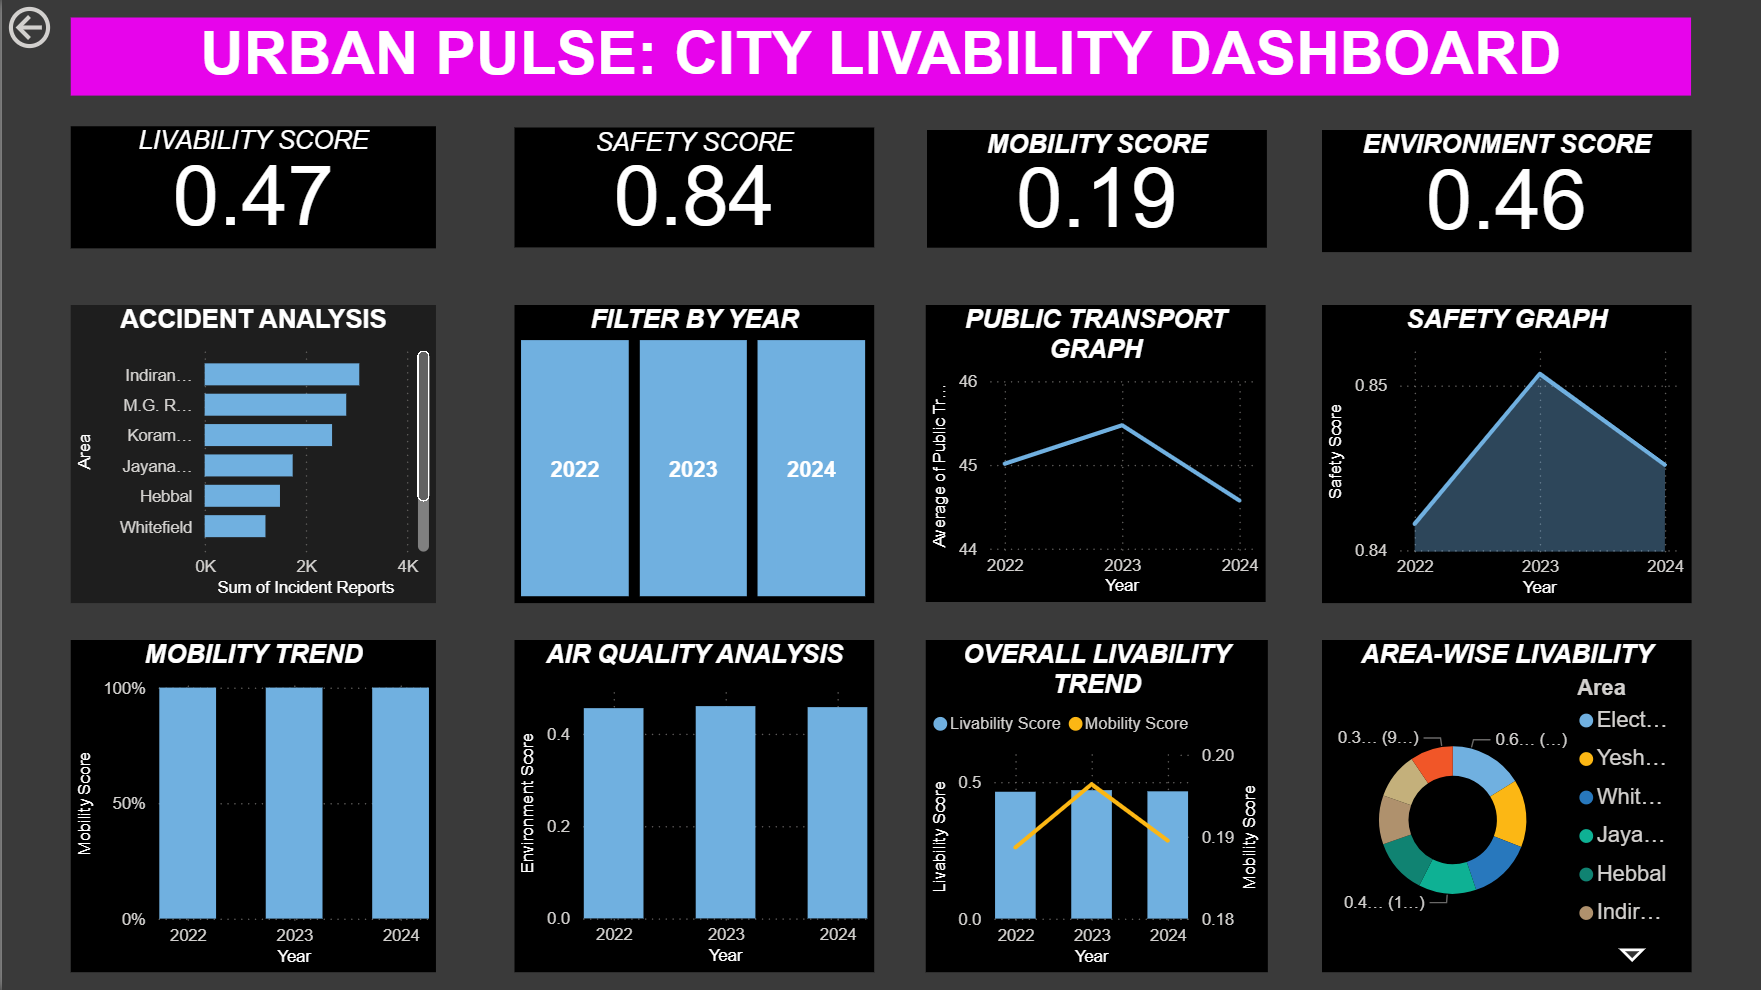

Layout of this report page (visuals, bound fields, positions):
{"tool":"powerbi","page":{"name":"Page 1","canvas":[1280,720],"ordinal":0},"visuals":[{"type":"hundredPercentStackedColumnChart","title":"MOBILITY TREND","fields":{"Category":["Banglore_traffic_Dataset.Date.Variation.Date Hierarchy.Year","Banglore_traffic_Dataset.Date.Variation.Date Hierarchy.Quarter","Banglore_traffic_Dataset.Date.Variation.Date Hierarchy.Month","Banglore_traffic_Dataset.Date.Variation.Date Hierarchy.Day"],"Y":["Banglore_traffic_Dataset.Mobility Score"]},"box":[50,465.7,265.7,241.4],"z":0},{"type":"clusteredColumnChart","title":"AIR QUALITY ANALYSIS","fields":{"Category":["Banglore_traffic_Dataset.Date.Variation.Date Hierarchy.Year","Banglore_traffic_Dataset.Date.Variation.Date Hierarchy.Quarter","Banglore_traffic_Dataset.Date.Variation.Date Hierarchy.Month","Banglore_traffic_Dataset.Date.Variation.Date Hierarchy.Day"],"Y":["Banglore_traffic_Dataset.Environment Score"]},"box":[372.8,465.7,261.8,241.3],"z":1000},{"type":"lineChart","title":"PUBLIC TRANSPORT GRAPH","fields":{"Y":["Avg(Banglore_traffic_Dataset.Public Transport Usage)"],"Category":["Banglore_traffic_Dataset.Date.Variation.Date Hierarchy.Year"]},"box":[672,222,247.3,216],"z":2000},{"type":"areaChart","title":"SAFETY GRAPH","fields":{"Y":["Banglore_traffic_Dataset.Safety Score"],"Category":["Banglore_traffic_Dataset.Date.Variation.Date Hierarchy.Year"]},"box":[960,221.4,268.6,217.1],"z":3000},{"type":"lineClusteredColumnComboChart","title":"OVERALL LIVABILITY TREND","fields":{"Category":["Banglore_traffic_Dataset.Date.Variation.Date Hierarchy.Year","Banglore_traffic_Dataset.Date.Variation.Date Hierarchy.Quarter","Banglore_traffic_Dataset.Date.Variation.Date Hierarchy.Month","Banglore_traffic_Dataset.Date.Variation.Date Hierarchy.Day"],"Y":["Banglore_traffic_Dataset.Livability Score"],"Y2":["Banglore_traffic_Dataset.Mobility Score"]},"box":[671.4,465.7,248.6,241.4],"z":4000},{"type":"donutChart","title":"AREA-WISE LIVABILITY","fields":{"Category":["Banglore_traffic_Dataset.Area"],"Y":["Banglore_traffic_Dataset.Livability Score"]},"box":[960,465.7,268.6,241.4],"z":5000},{"type":"textbox","title":"URBAN PULSE: CITY LIVABILITY DASHBOARD","box":[50,12.9,1178.6,57.1],"z":6000},{"type":"actionButton","box":[0,0,100,40],"z":7000},{"type":"card","title":"LIVABILITY  SCORE","fields":{"Values":["Banglore_traffic_Dataset.Livability Score"]},"box":[50,91.4,265.7,88.6],"z":8000},{"type":"card","title":"MOBILITY SCORE","fields":{"Values":["Banglore_traffic_Dataset.Mobility Score"]},"box":[672.9,94.3,247.1,85.7],"z":9000},{"type":"card","title":"ENVIRONMENT SCORE","fields":{"Values":["Banglore_traffic_Dataset.Environment Score"]},"box":[960,94.3,268.6,88.6],"z":10000},{"type":"card","title":"SAFETY SCORE","fields":{"Values":["Banglore_traffic_Dataset.Safety Score"]},"box":[372.9,92.9,261.4,87.1],"z":11000},{"type":"advancedSlicerVisual","title":"FILTER BY YEAR","fields":{"Values":["Banglore_traffic_Dataset.Date.Variation.Date Hierarchy.Year"]},"box":[372.9,221.4,261.4,217.1],"z":12000},{"type":"clusteredBarChart","title":"ACCIDENT ANALYSIS","fields":{"Category":["Banglore_traffic_Dataset.Area"],"Y":["Sum(Banglore_traffic_Dataset.Incident Reports)"]},"box":[50,221.4,265.7,217.1],"z":13000}]}

Visuals, with their boxes on the page's 1280x720 design canvas (x1, y1, x2, y2). These are canvas units, not pixel positions in the 1761x990 screenshot, which may show the page scaled, cropped or inside an application window:
"MOBILITY TREND" hundredPercentStackedColumnChart: detection(50, 466, 316, 707)
"AIR QUALITY ANALYSIS" clusteredColumnChart: detection(373, 466, 635, 707)
"PUBLIC TRANSPORT GRAPH" lineChart: detection(672, 222, 919, 438)
"SAFETY GRAPH" areaChart: detection(960, 221, 1229, 438)
"OVERALL LIVABILITY TREND" lineClusteredColumnComboChart: detection(671, 466, 920, 707)
"AREA-WISE LIVABILITY" donutChart: detection(960, 466, 1229, 707)
"URBAN PULSE: CITY LIVABILITY DASHBOARD" textbox: detection(50, 13, 1229, 70)
actionButton: detection(0, 0, 100, 40)
"LIVABILITY  SCORE" card: detection(50, 91, 316, 180)
"MOBILITY SCORE" card: detection(673, 94, 920, 180)
"ENVIRONMENT SCORE" card: detection(960, 94, 1229, 183)
"SAFETY SCORE" card: detection(373, 93, 634, 180)
"FILTER BY YEAR" advancedSlicerVisual: detection(373, 221, 634, 438)
"ACCIDENT ANALYSIS" clusteredBarChart: detection(50, 221, 316, 438)
